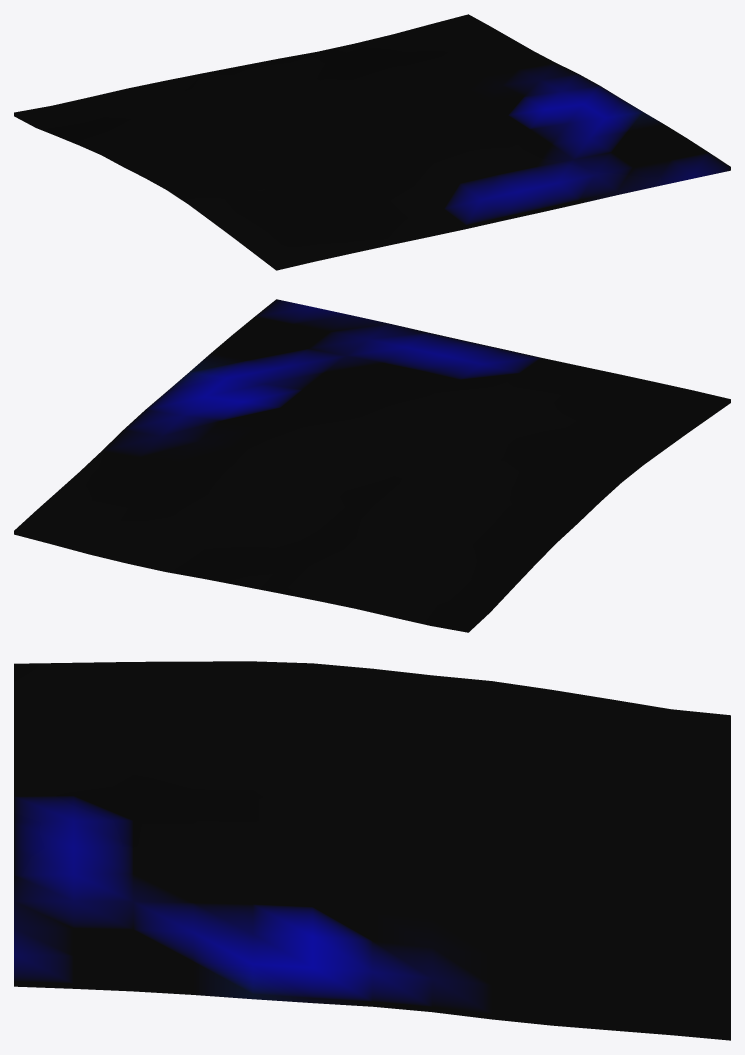
File: coast_7_1.glb
3 views of the same model, one above another, from view 1: azimuth 30°, elevation 25°; view 2: azimuth 150°, elevation 25°; view 3: azimuth 270°, elevation 25° (orthographic). The views are drawn at different scales.
Parts seen in each view (by area): view 1: terrain; view 2: terrain; view 3: terrain.
Part boxes in pixels (left/top/right/bottom): terrain: left=14, top=14, right=730, bottom=270; terrain: left=14, top=299, right=730, bottom=632; terrain: left=14, top=661, right=730, bottom=1040.
Size of the model in its own units: 192 by 23.18 by 192.
